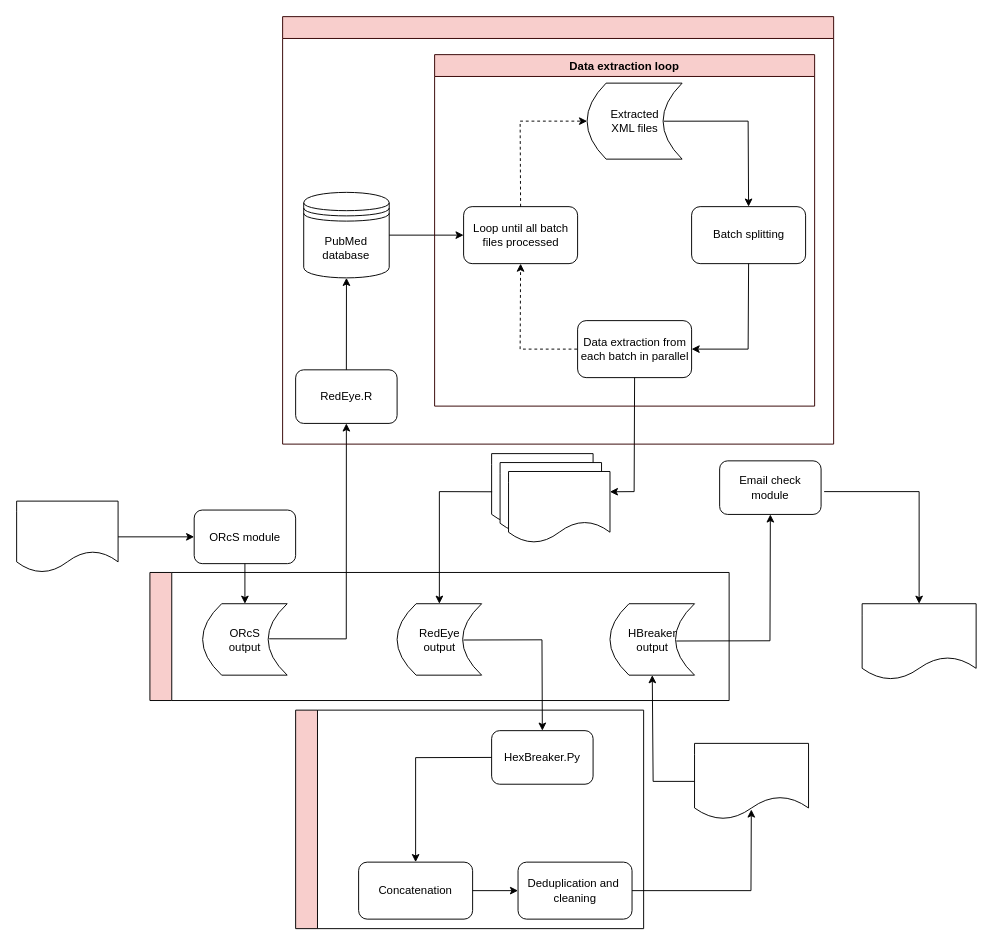
Image size: 993x945. Some labels were removed from this diagram. Here are the shapes that lost their labels. From the top down, the centre of each, then its label:
At (x=558, y=230): "RedEye Extraction Module".
At (x=559, y=507): "Output files".
At (x=67, y=536): "Input OVID files".
At (x=439, y=636): "Interim Storage".
At (x=918, y=641): "Final Output".
At (x=751, y=780): "Concatenated Cleaned Output".
At (x=469, y=819): "HexBreaker Module".
